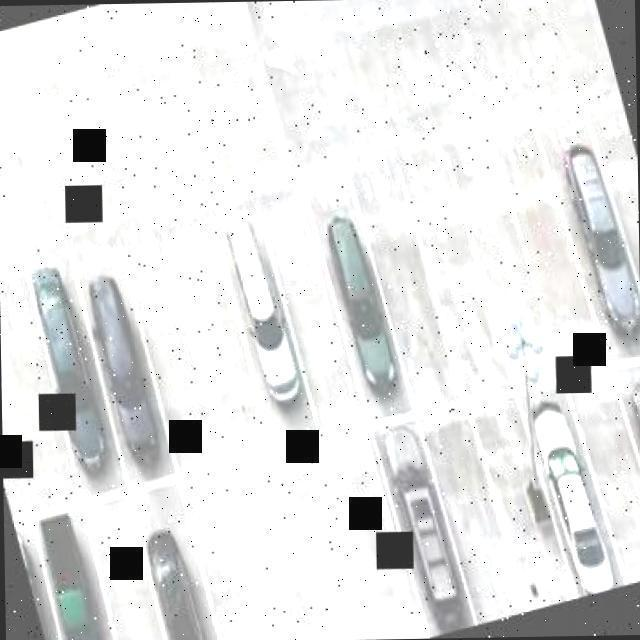space-empty: (550, 136, 637, 332), (172, 248, 256, 423), (371, 206, 446, 376), (465, 195, 536, 365), (567, 395, 640, 555), (447, 447, 515, 611), (490, 442, 560, 601), (0, 311, 65, 481), (342, 485, 413, 640), (524, 171, 589, 340), (132, 264, 197, 416), (276, 250, 344, 394), (300, 505, 371, 640), (246, 506, 315, 640), (199, 525, 268, 640), (420, 209, 476, 337), (104, 543, 173, 640), (607, 150, 640, 308), (0, 302, 18, 493)
space-occupied: (218, 222, 311, 426), (321, 204, 403, 406), (529, 404, 611, 598), (389, 454, 471, 636), (83, 290, 166, 464), (31, 264, 103, 450), (40, 528, 116, 640), (148, 533, 215, 640), (629, 378, 640, 571)
